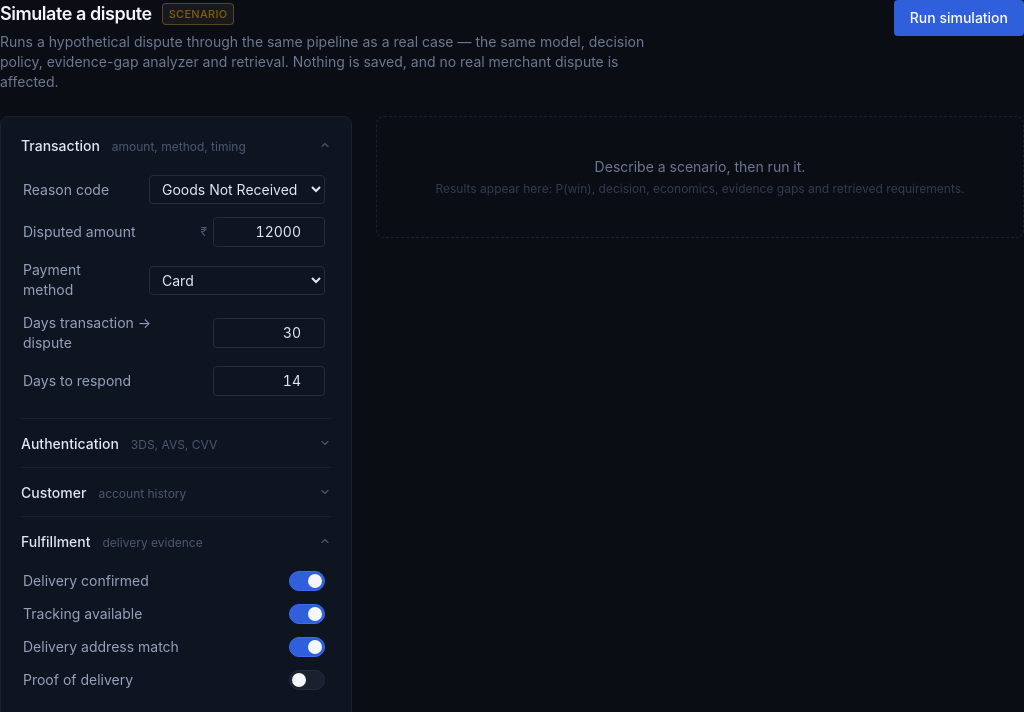
Scenario: SimulationPage › marks stages that did not run as not-run rather than complete
Click the button "Run simulation".
click(959, 18)  # box [894, 0, 1023, 36]
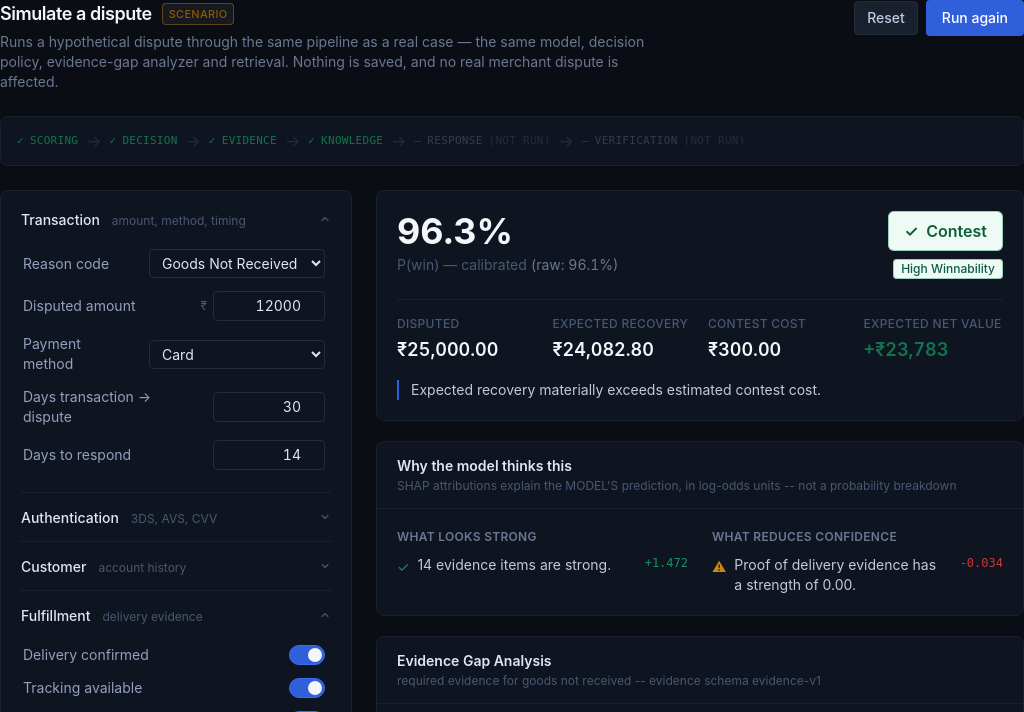
Expected: the text "SCORING" is shown, [30, 134, 78, 147]
Expected: the 1st text "(not run)" is shown, [488, 133, 551, 149]
